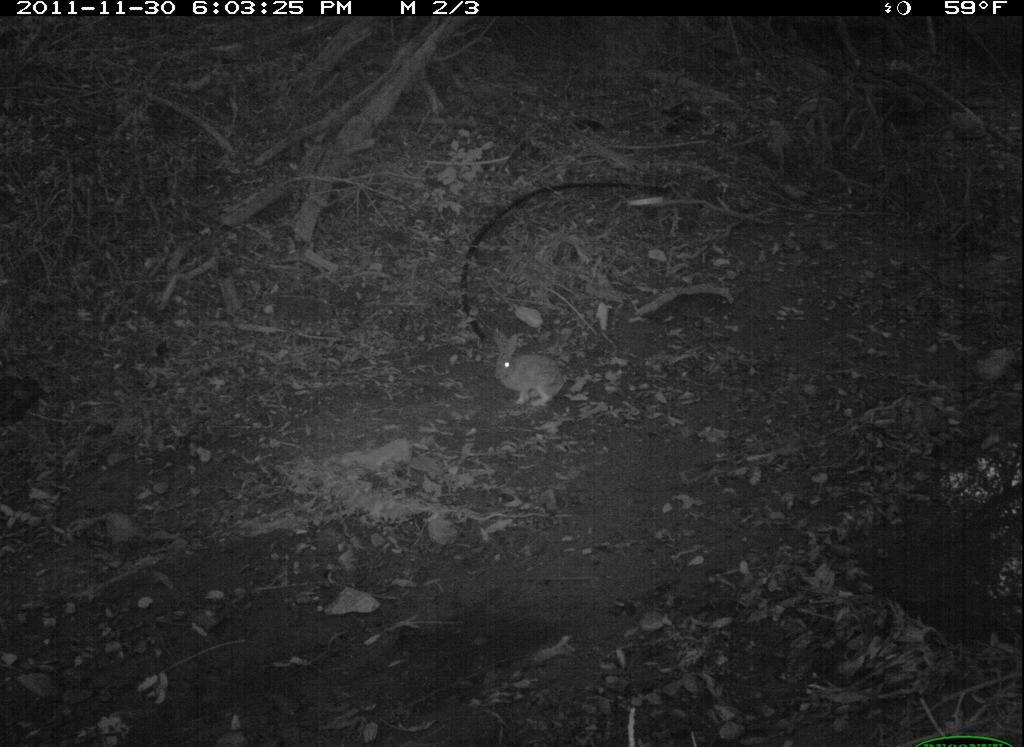rabbit: (489, 328, 571, 413)
